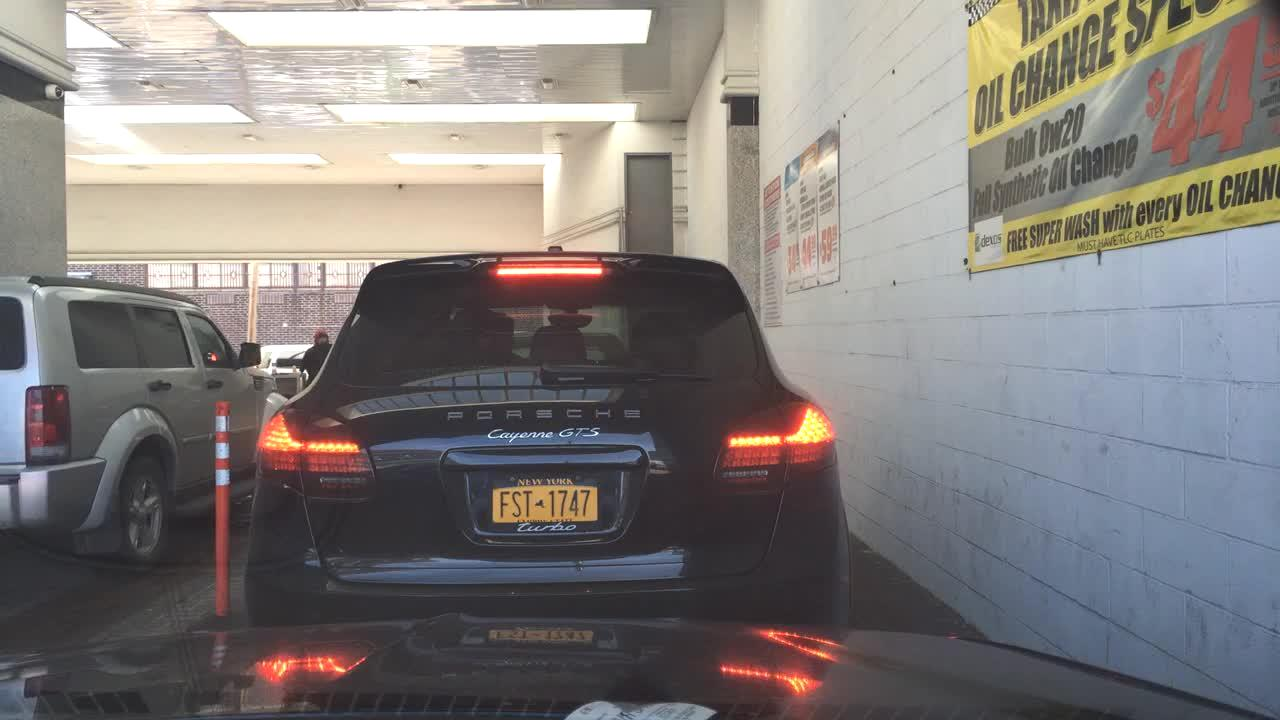porsche: (440, 406, 647, 427)
